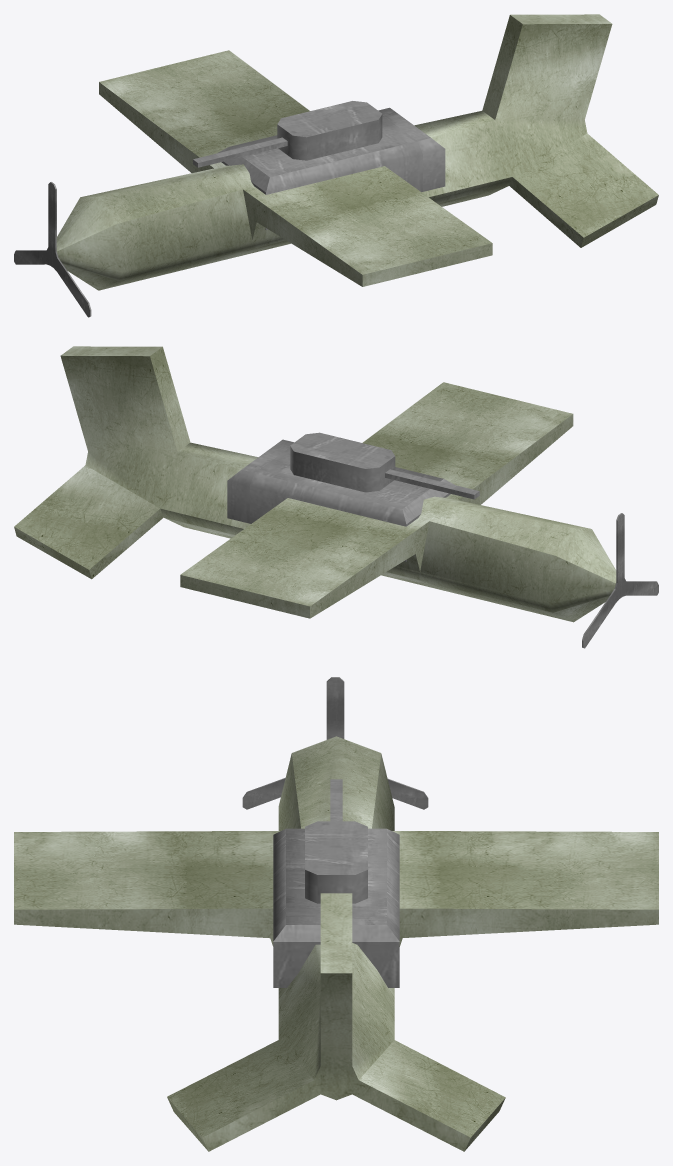
Rendered from wartrain_enemies.FBX.
The picture shows the model from 3 angles, top to bottom: view 1: azimuth 30°, elevation 25°; view 2: azimuth 150°, elevation 25°; view 3: azimuth 270°, elevation 25°; orthographic projection. The views are drawn at different scales.
Parts seen in each view (by area): view 1: wartrain_plane, wartrain_tank, wartrain_prop; view 2: wartrain_plane, wartrain_tank, wartrain_prop; view 3: wartrain_plane, wartrain_tank, wartrain_prop.
Part boxes in pixels (box(x1,y1,x2,y2)): wartrain_plane: box(56, 14, 658, 290); wartrain_tank: box(193, 101, 445, 229); wartrain_prop: box(14, 182, 91, 317); wartrain_plane: box(14, 346, 616, 622); wartrain_tank: box(227, 432, 479, 561); wartrain_prop: box(582, 513, 658, 648); wartrain_plane: box(14, 736, 658, 1151); wartrain_tank: box(273, 779, 399, 987); wartrain_prop: box(242, 677, 428, 809).
Bounding box in the file's own units: 61.86 × 50.92 × 19.15.
